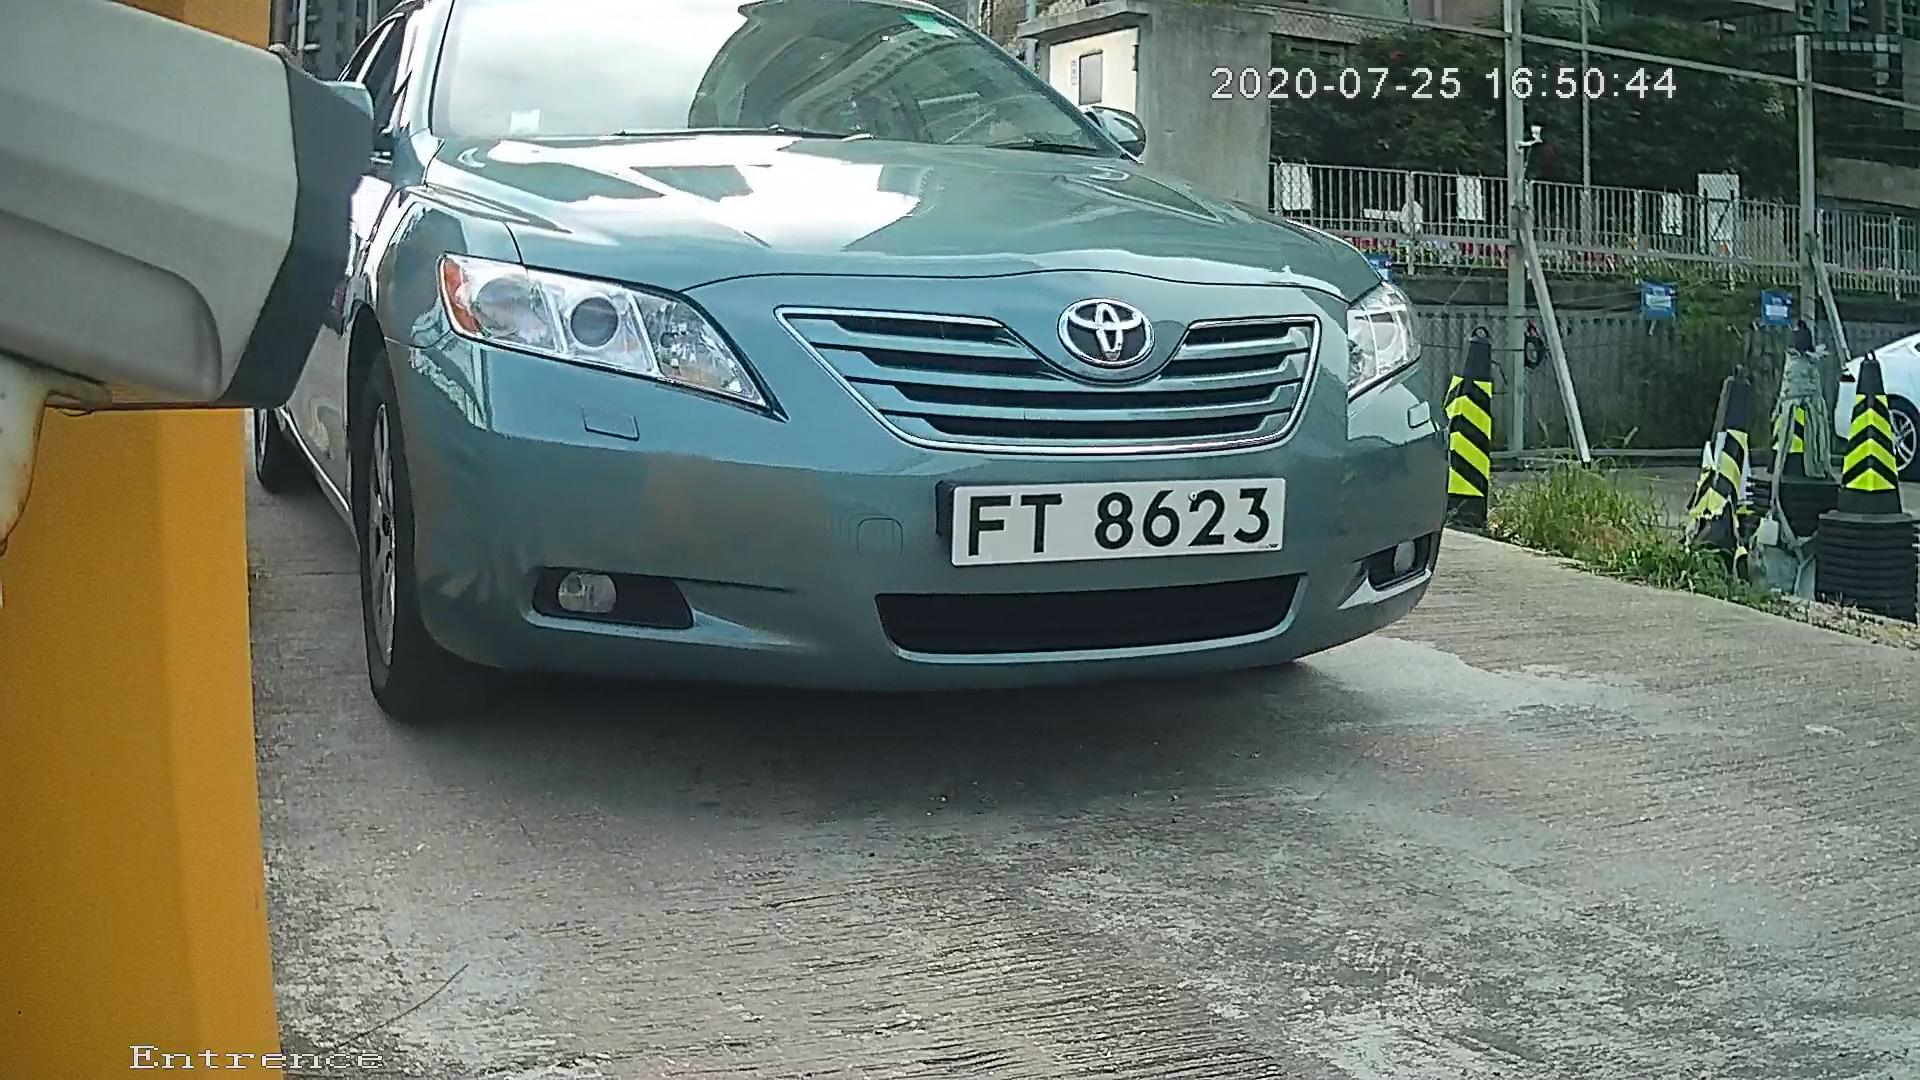License Plate: (909, 463, 1312, 579)
